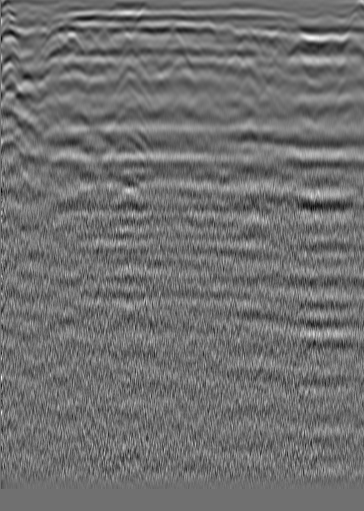가스: (110, 165, 144, 198)
상수: (37, 31, 57, 51)
오수: (313, 30, 333, 50)
우수: (159, 28, 179, 48)
